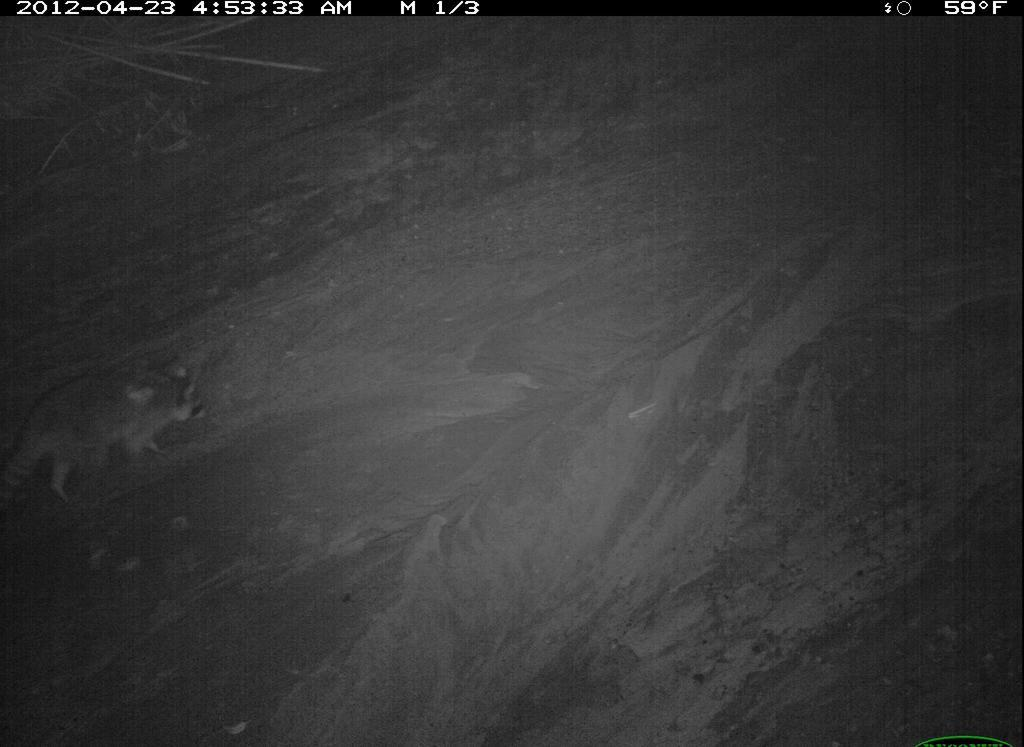raccoon: (1, 697, 425, 747)
